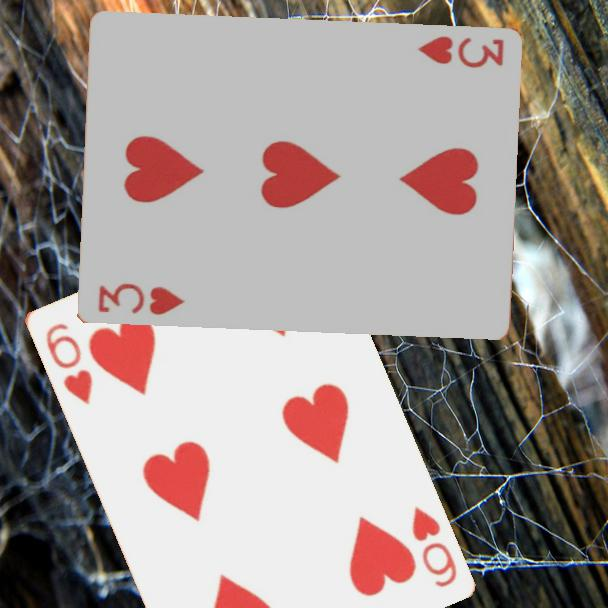h03: (413, 32, 507, 72), (94, 280, 187, 319)
h06: (41, 319, 95, 407), (407, 502, 459, 590)
